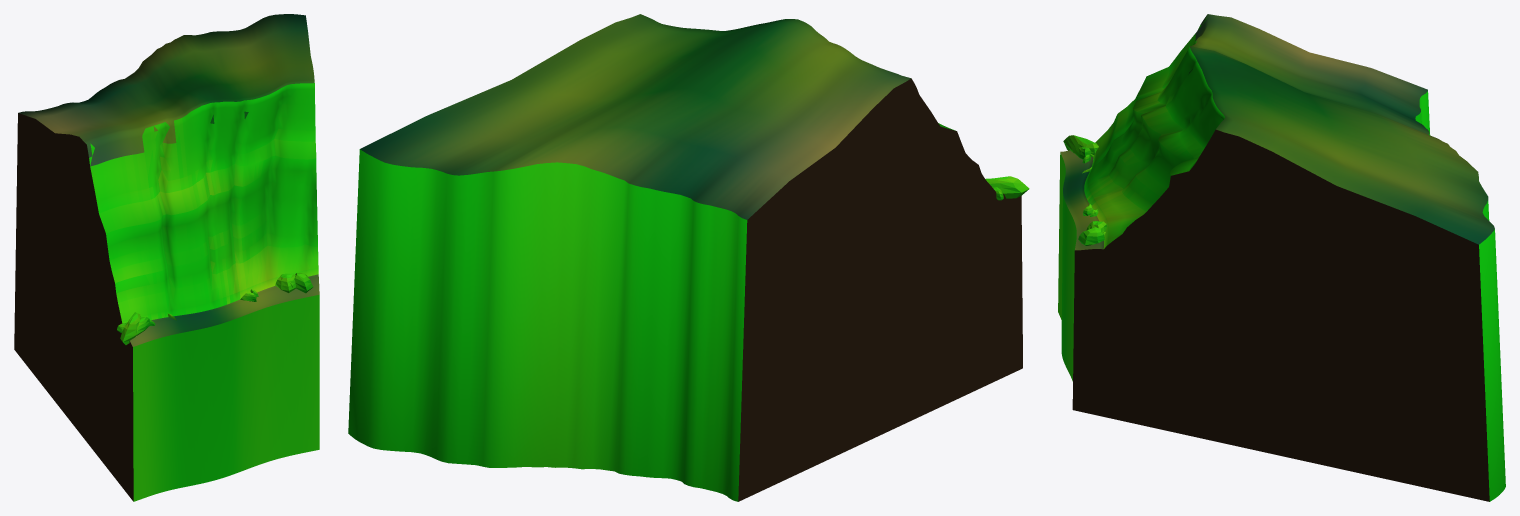
The model's file is SM_ForestRisingCliffs_14.fbx.
The picture shows the model from 3 angles, left to right: view 1: azimuth 30°, elevation 25°; view 2: azimuth 150°, elevation 25°; view 3: azimuth 270°, elevation 25°; orthographic projection. The views are drawn at different scales.
Parts seen in each view (by area): view 1: SM_ForestRisingCliffs_14; view 2: SM_ForestRisingCliffs_14; view 3: SM_ForestRisingCliffs_14.
Boxes of the visible parts, bbox=[...] form: SM_ForestRisingCliffs_14: bbox=[14, 14, 319, 501]; SM_ForestRisingCliffs_14: bbox=[348, 14, 1029, 501]; SM_ForestRisingCliffs_14: bbox=[1058, 14, 1505, 501].
Bounding box in the file's own units: 64.76 × 62.28 × 50.71.
